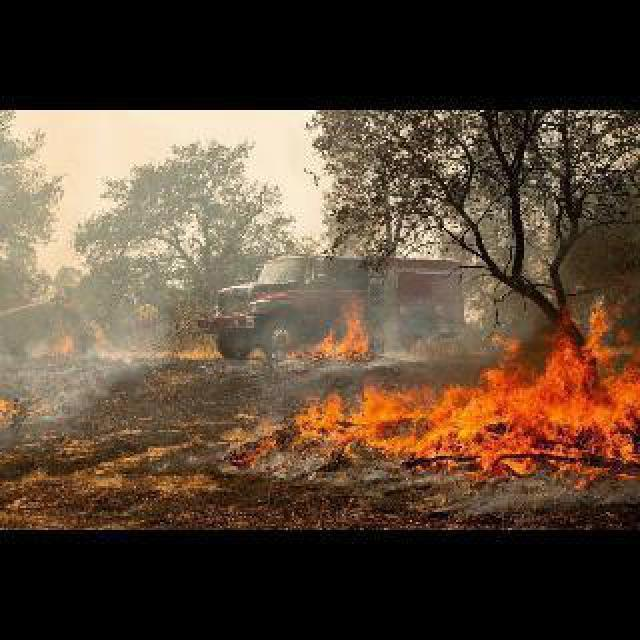Fire: (284, 296, 638, 476), (284, 296, 368, 362), (44, 332, 78, 354)
